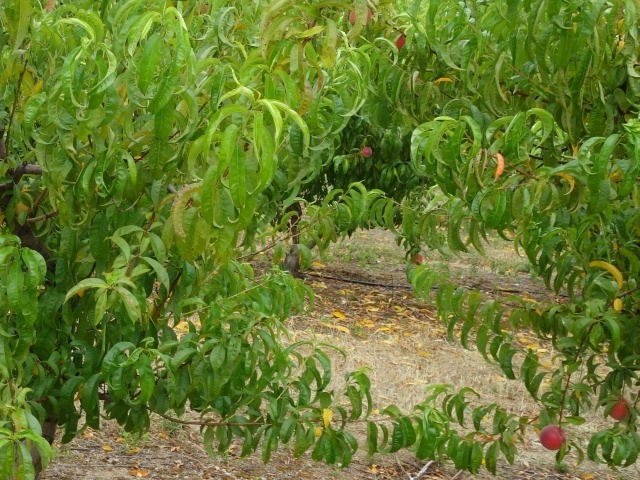peach: (536, 421, 568, 454), (603, 392, 633, 418)
